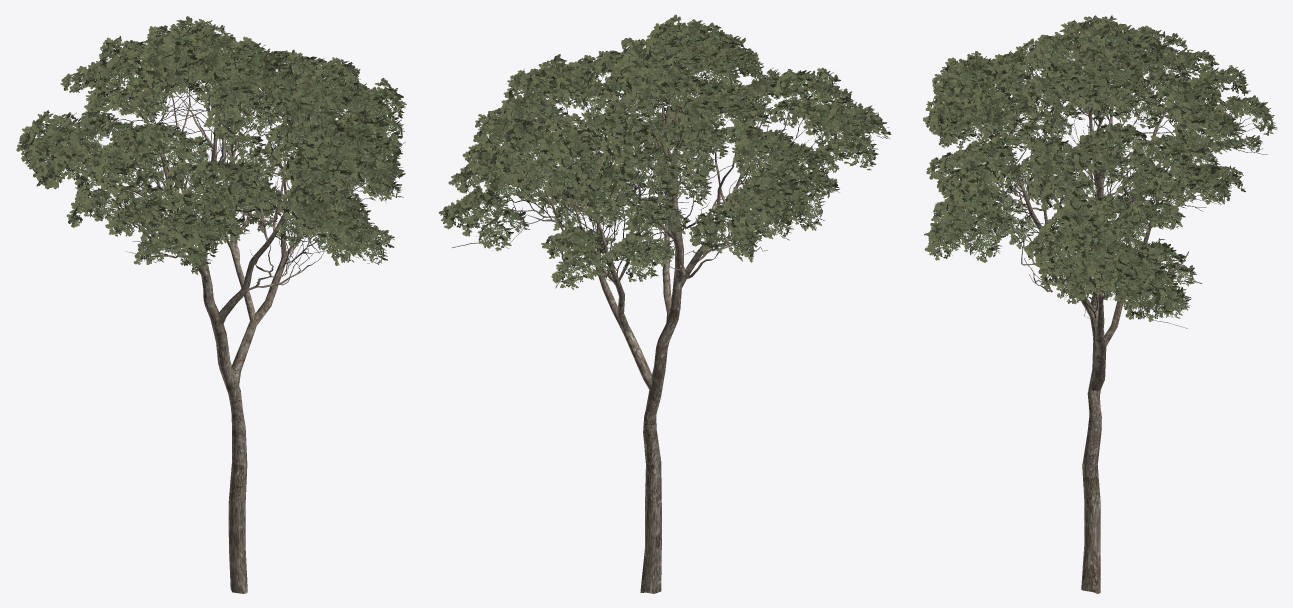
File: jungle_tree.glb
3 renders of one model, left to right at view 1: azimuth 30°, elevation 25°; view 2: azimuth 150°, elevation 25°; view 3: azimuth 270°, elevation 25°, orthographic. The views are drawn at different scales.
Visible parts, largest first — view 1: Mesh_LEAFS_0, Mesh_trunk_0, Mesh_branches_0; view 2: Mesh_LEAFS_0, Mesh_trunk_0, Mesh_branches_0; view 3: Mesh_LEAFS_0, Mesh_trunk_0, Mesh_branches_0.
Boxes of the visible parts, <box> form: Mesh_LEAFS_0: <box>16,16,406,274</box>; Mesh_trunk_0: <box>56,58,324,593</box>; Mesh_branches_0: <box>65,62,383,276</box>; Mesh_LEAFS_0: <box>439,14,891,289</box>; Mesh_trunk_0: <box>519,76,782,593</box>; Mesh_branches_0: <box>452,67,837,278</box>; Mesh_LEAFS_0: <box>923,15,1277,321</box>; Mesh_trunk_0: <box>976,39,1222,593</box>; Mesh_branches_0: <box>963,29,1267,328</box>.
Size of the model in its own units: 15.48 by 23.28 by 13.64.
Materials: 3 (3 with a texture image).
